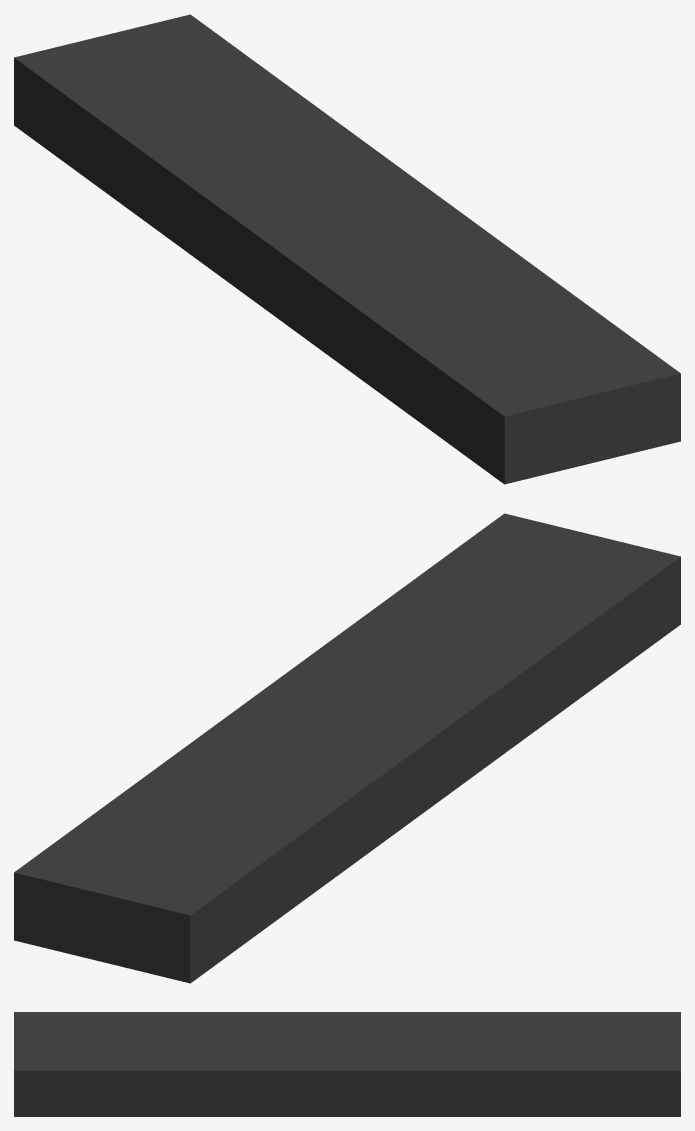
File: romanrail_01.glb
The picture shows the model from 3 angles, top to bottom: view 1: azimuth 30°, elevation 25°; view 2: azimuth 150°, elevation 25°; view 3: azimuth 270°, elevation 25°; orthographic projection. The views are drawn at different scales.
Parts seen in each view (by area): view 1: geometry_0; view 2: geometry_0; view 3: geometry_0.
Part boxes in pixels (x1,y1,x2,y2): geometry_0: [14, 14, 680, 484]; geometry_0: [14, 513, 680, 983]; geometry_0: [14, 1012, 680, 1116].
Size of the model in its own units: 1.78 by 0.6561 by 8.58.
1 material, 1 textured.
